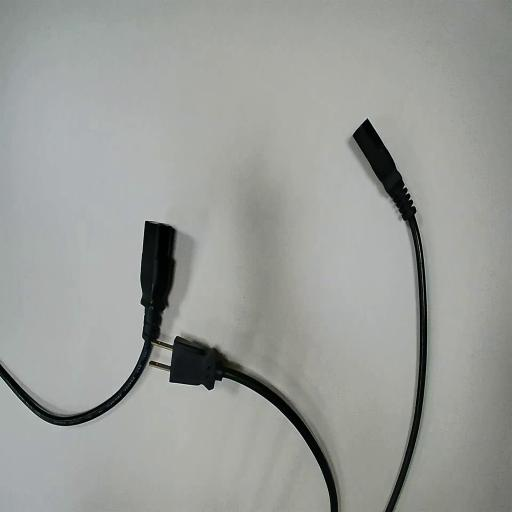wire: (0, 222, 175, 424), (169, 338, 337, 511), (353, 120, 426, 511)
